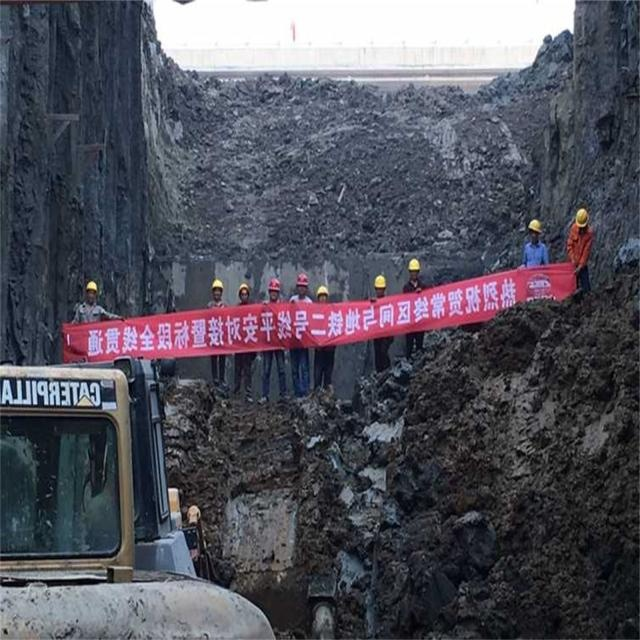Con_Casco: (407, 257, 422, 280), (527, 220, 541, 242), (374, 275, 387, 297)
